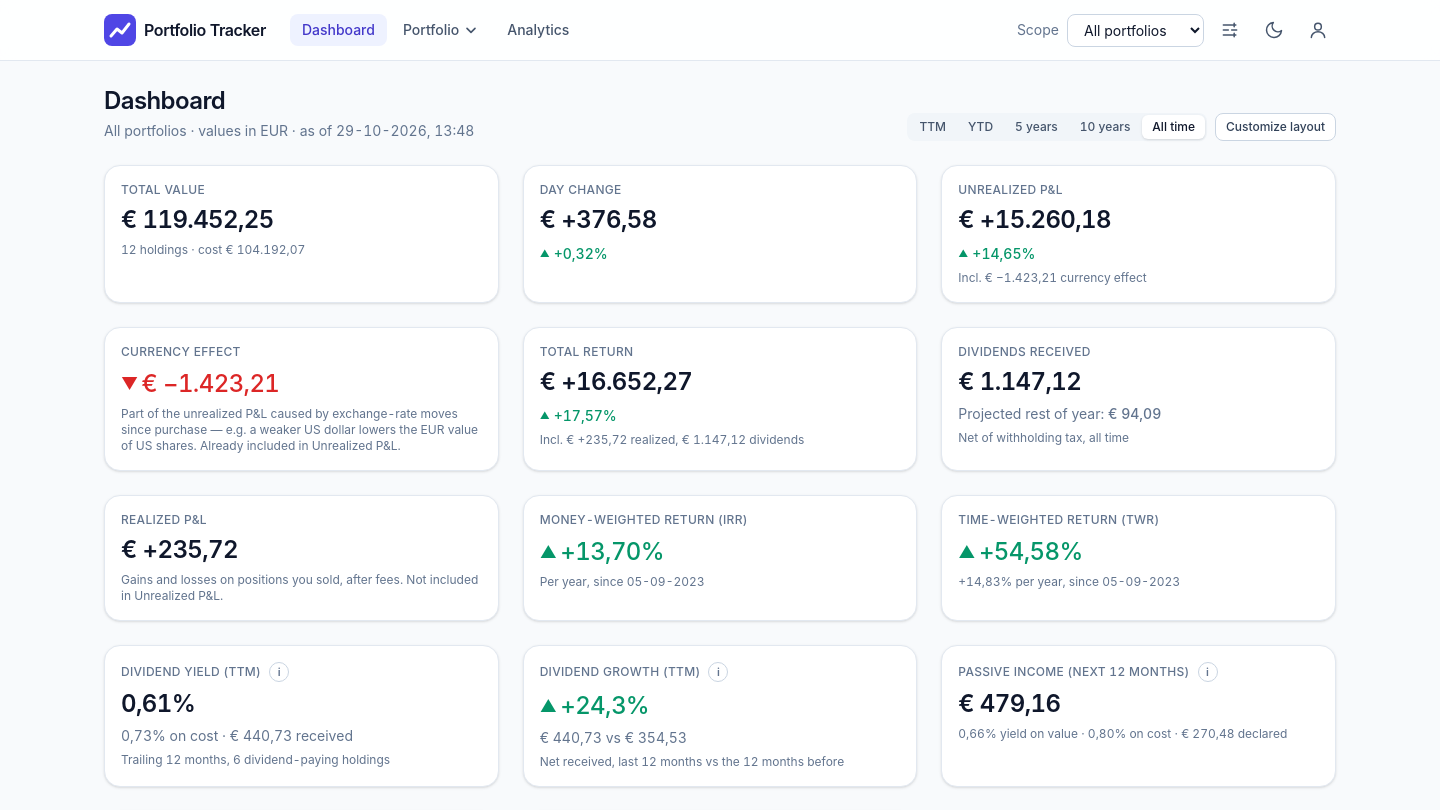
Test case: GitHub mode: account menu and sign-out › shows a generic message when sign-out fails with a non-Error
Click the button named "Account".
click(1318, 30)  # box [1300, 12, 1336, 48]
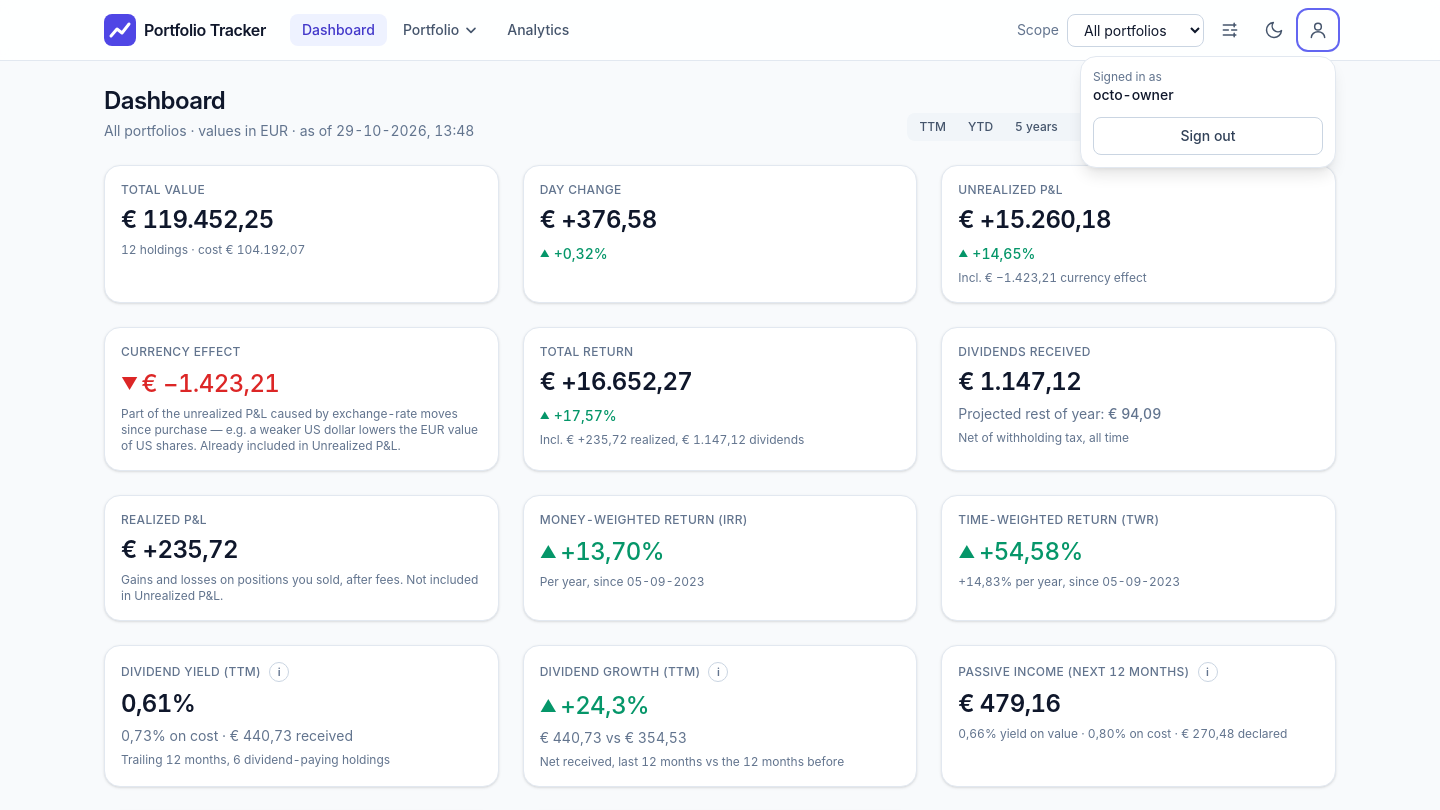
Click the button "Sign out".
click(1208, 136)  # box [1093, 117, 1323, 155]
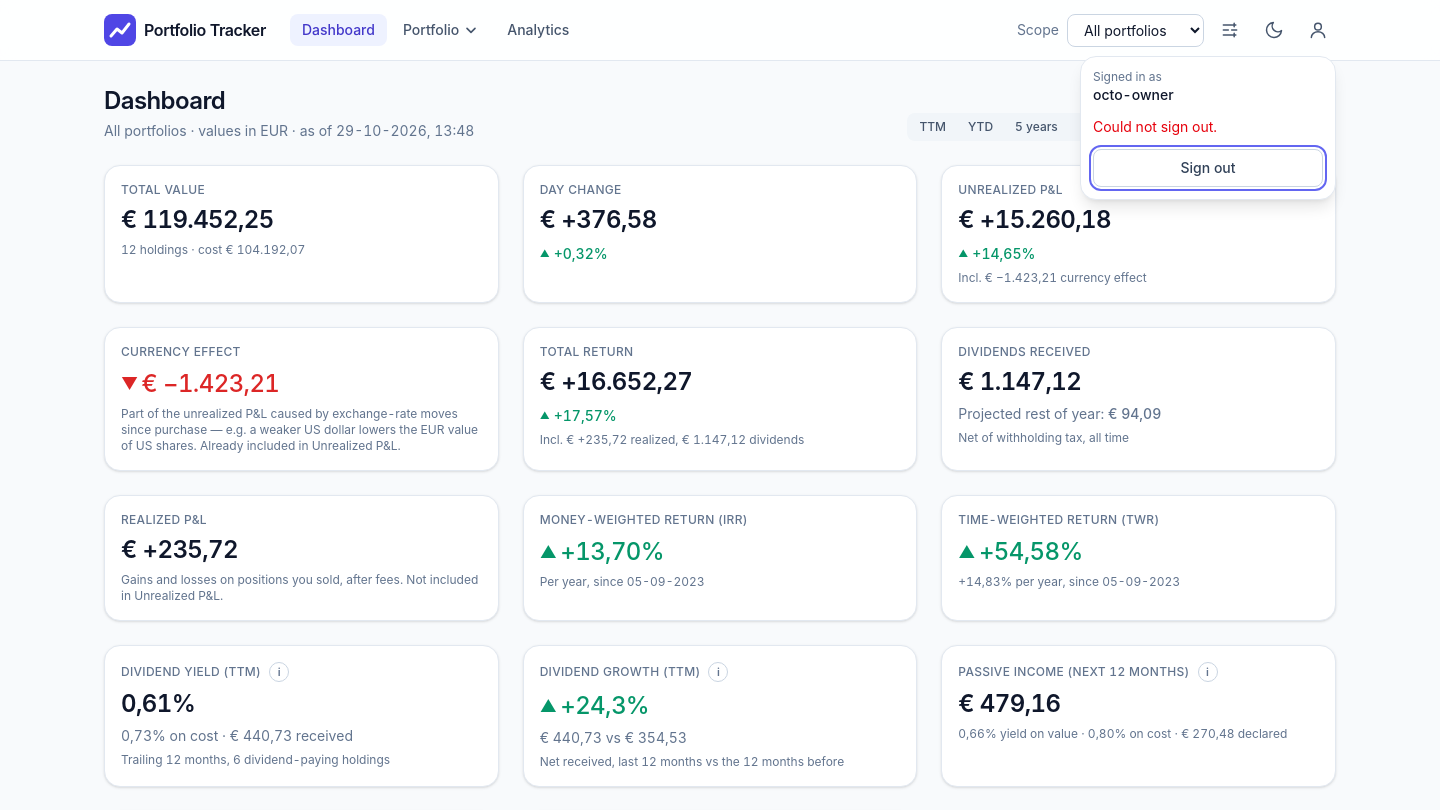
Check: the message reads "Could not sign out.", box [1093, 118, 1217, 135]
